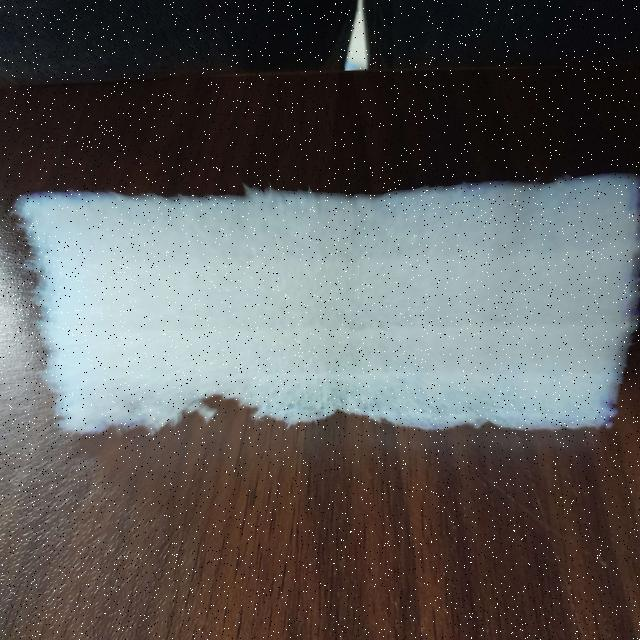engine: (22, 163, 640, 437)
